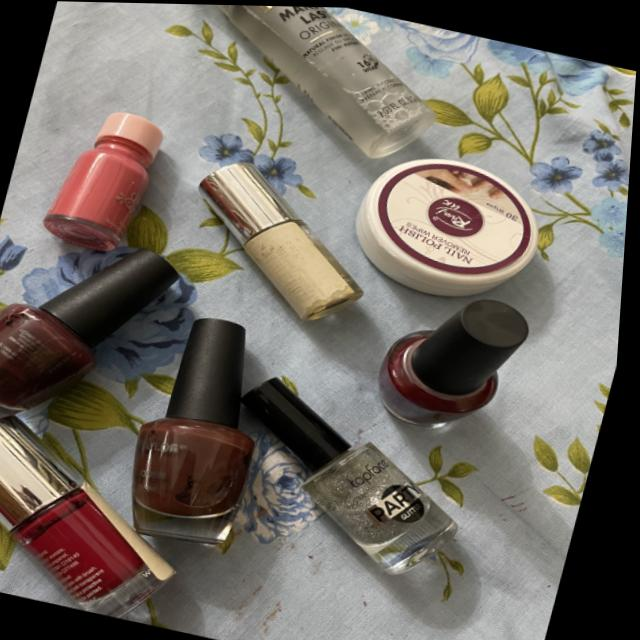Tint: (26, 85, 186, 263)
nail polish: (209, 345, 485, 601), (0, 382, 227, 628), (105, 290, 303, 565), (0, 211, 203, 455), (156, 144, 401, 336), (341, 265, 559, 444)
nail polish remover: (328, 132, 572, 313)
setting spray: (114, 2, 459, 166)
